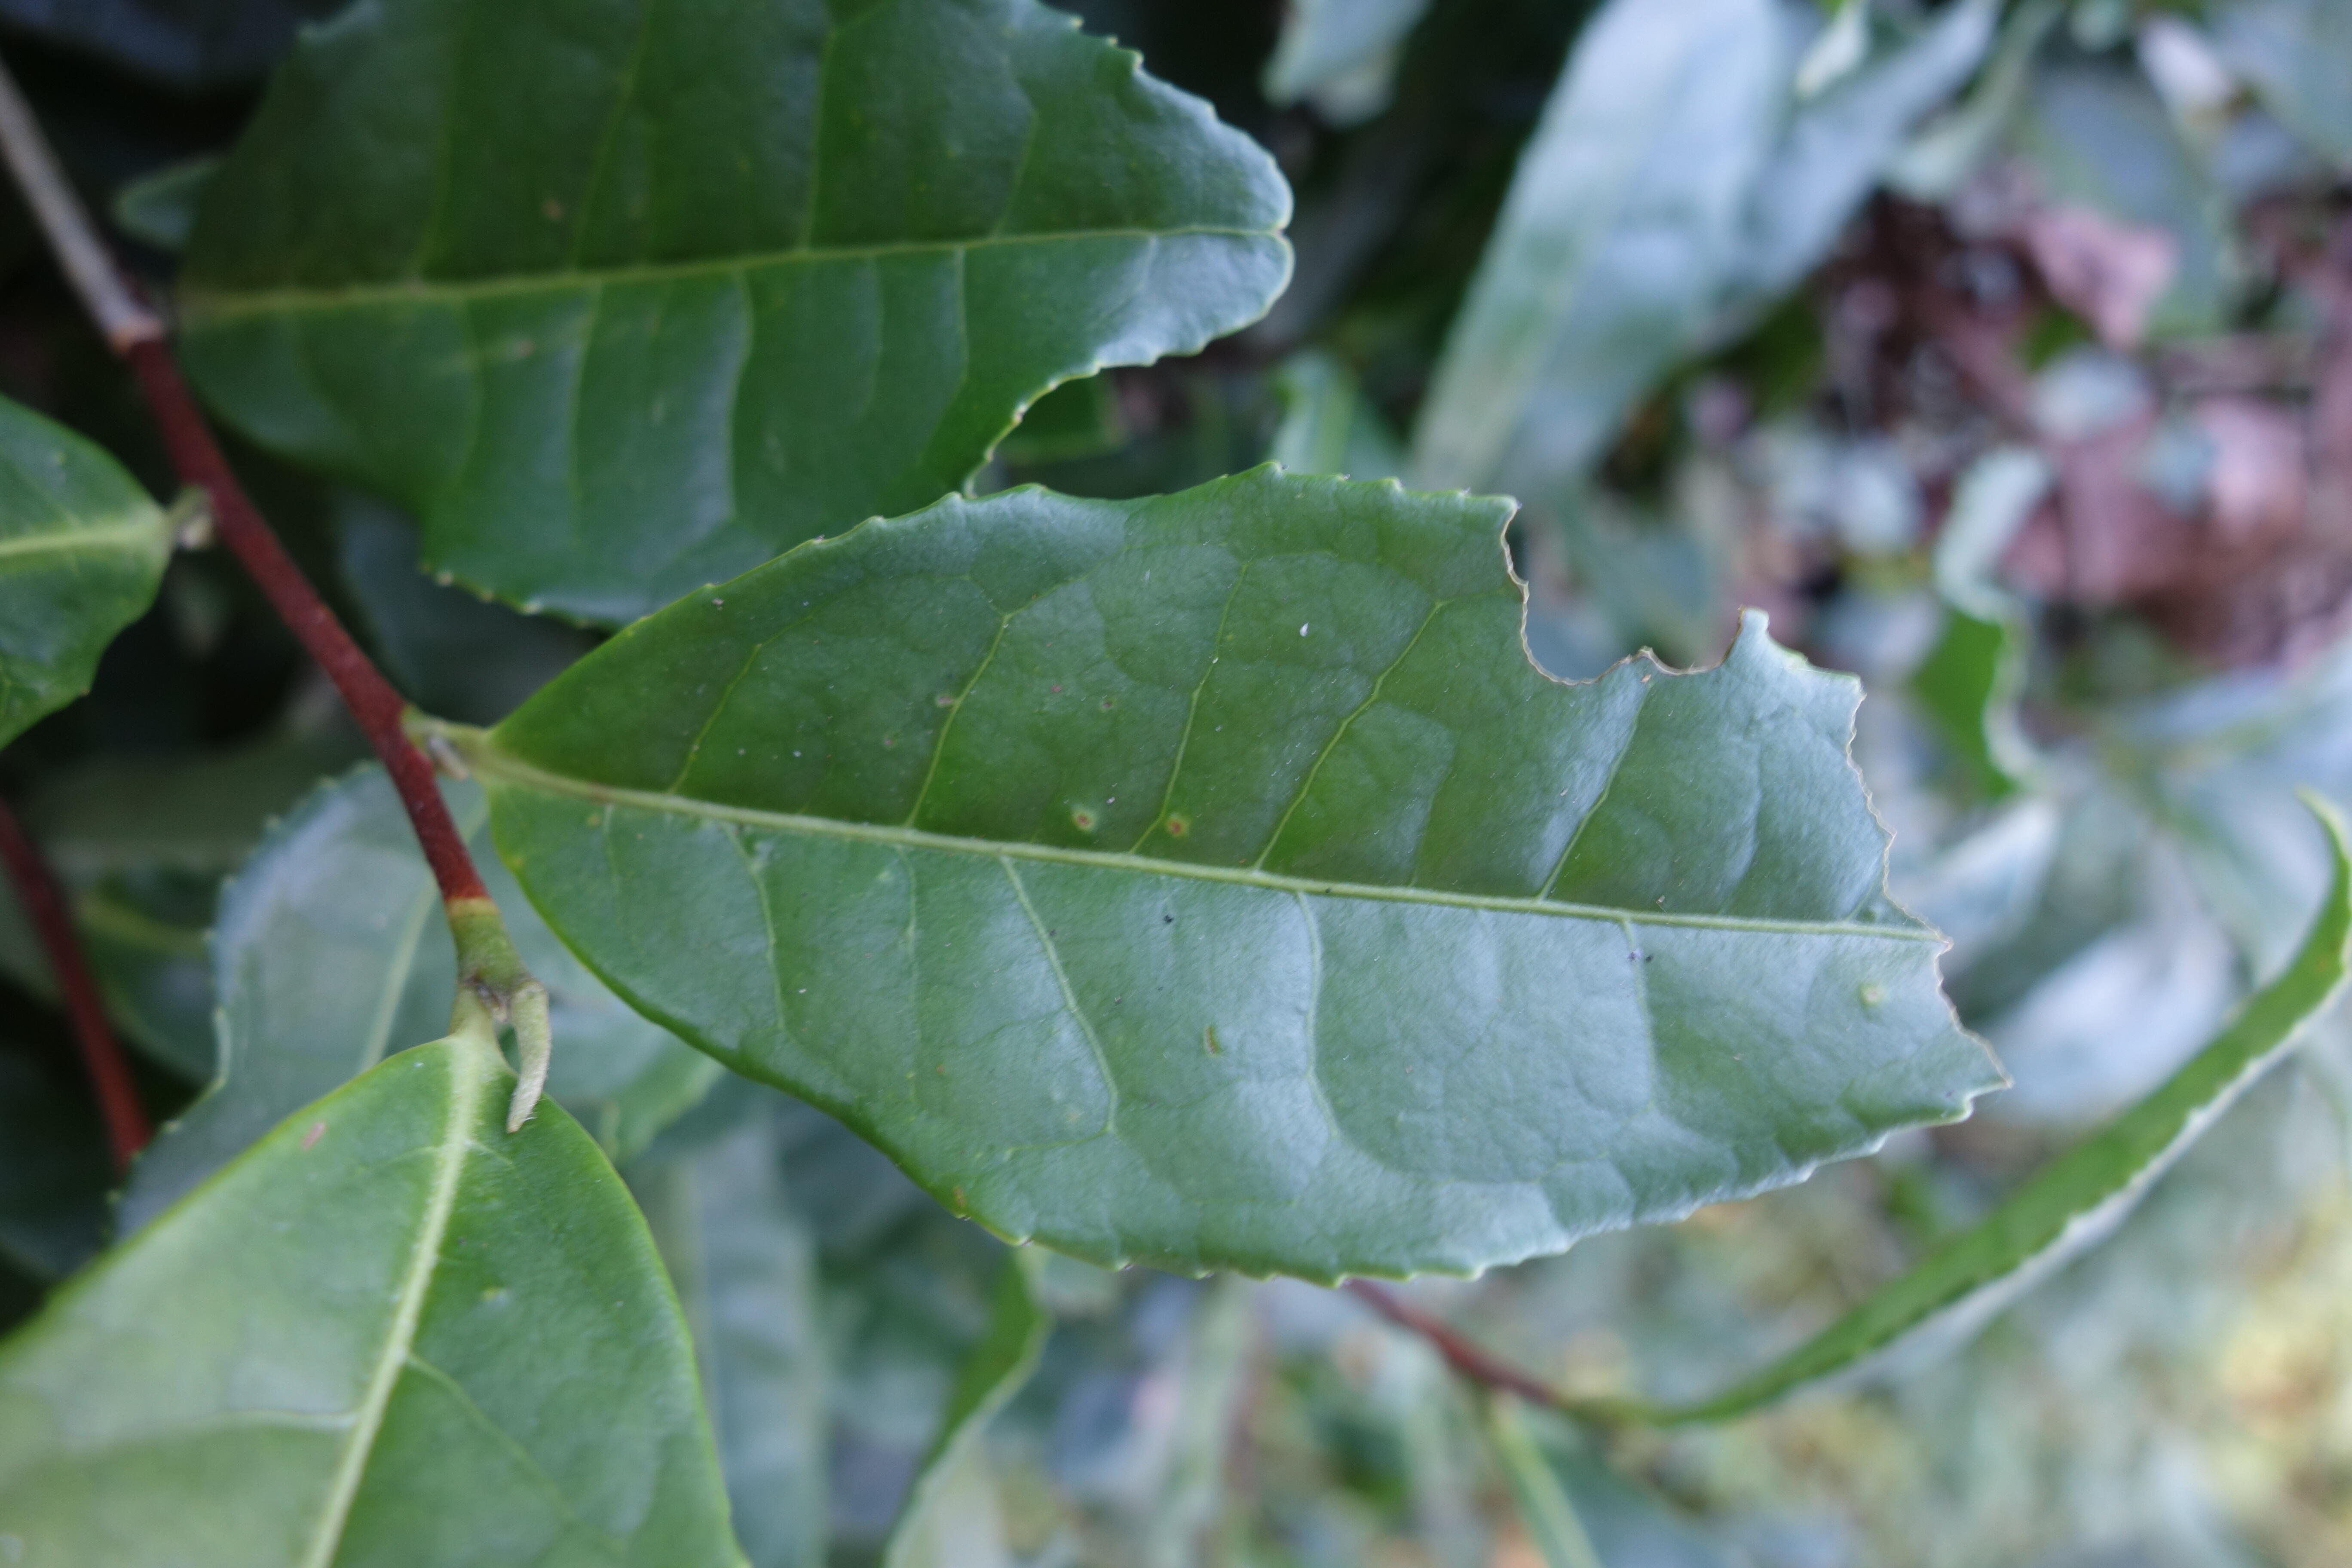chihuo_high: (478, 465, 2011, 1291)
